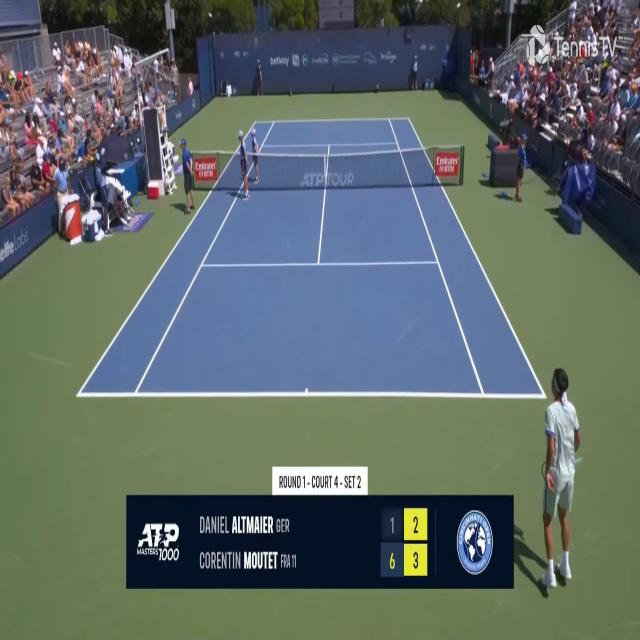tennis-player: (532, 362, 582, 588)
